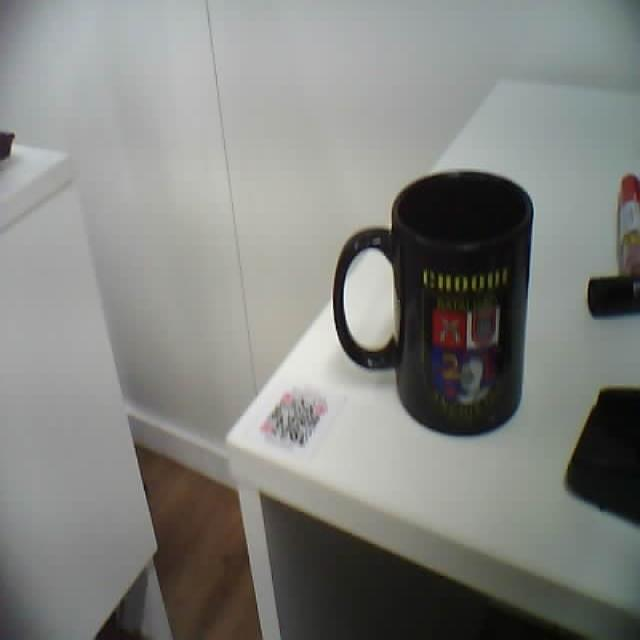caneca: (333, 171, 532, 433)
